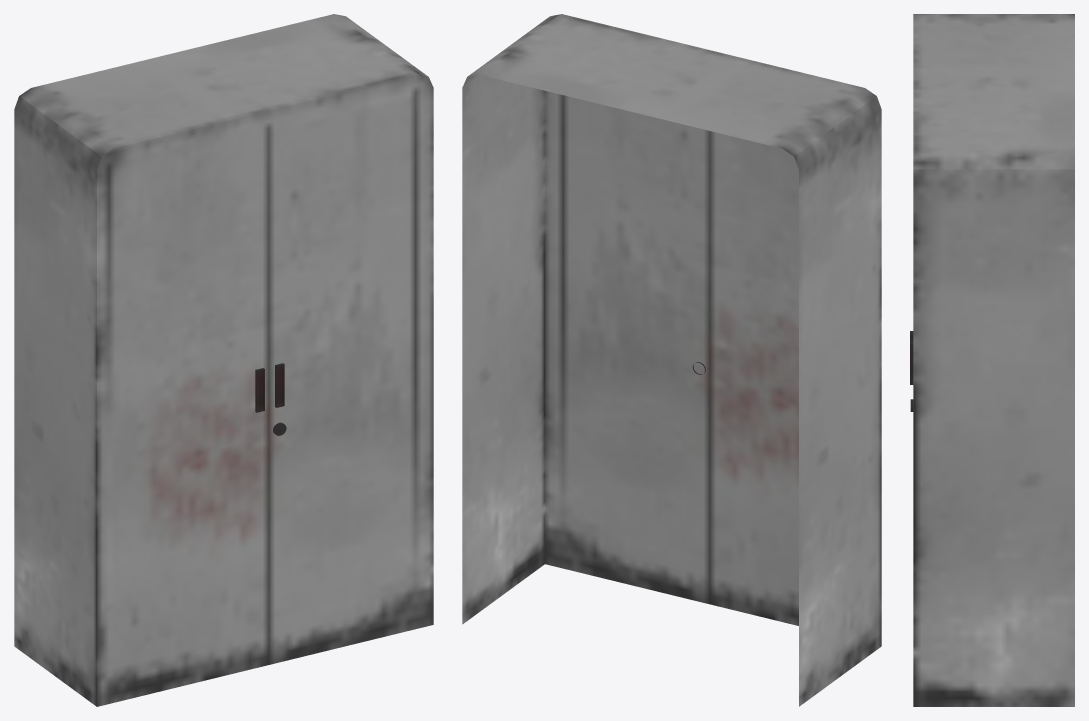
File: med_cabinet.91b332f8d9.glb
3 renders of one model, left to right at view 1: azimuth 30°, elevation 25°; view 2: azimuth 150°, elevation 25°; view 3: azimuth 270°, elevation 25°, orthographic. The views are drawn at different scales.
Parts seen in each view (by area): view 1: med_cabinet; view 2: med_cabinet; view 3: med_cabinet.
Boxes of the visible parts, x1=… form: med_cabinet: x1=14, y1=14, x2=433, y2=706; med_cabinet: x1=462, y1=14, x2=881, y2=706; med_cabinet: x1=910, y1=14, x2=1074, y2=706.
Bounding box in the file's own units: 1.25 × 1.97 × 0.5446.
Materials: 1 (1 with a texture image).
